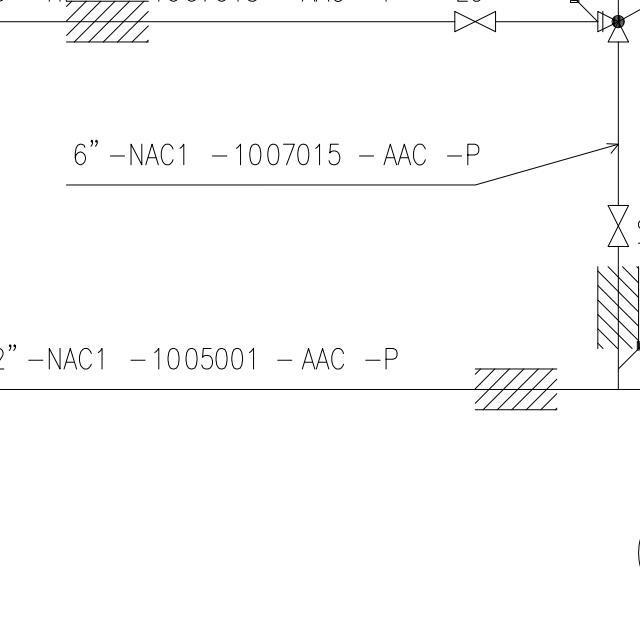GV: (448, 8, 502, 35), (605, 196, 632, 249)
